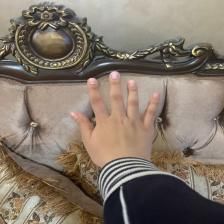five: (69, 71, 169, 170)
